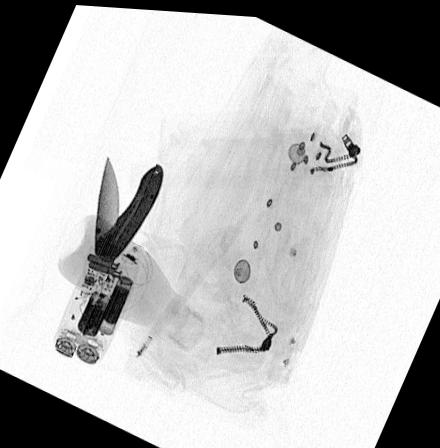Knife: (90, 150, 165, 271)
